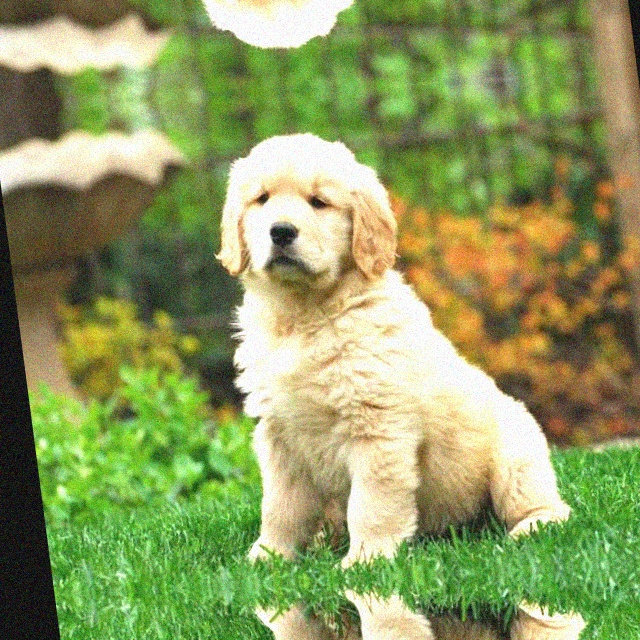dog: (177, 102, 568, 568), (159, 0, 504, 72), (241, 583, 587, 640)
